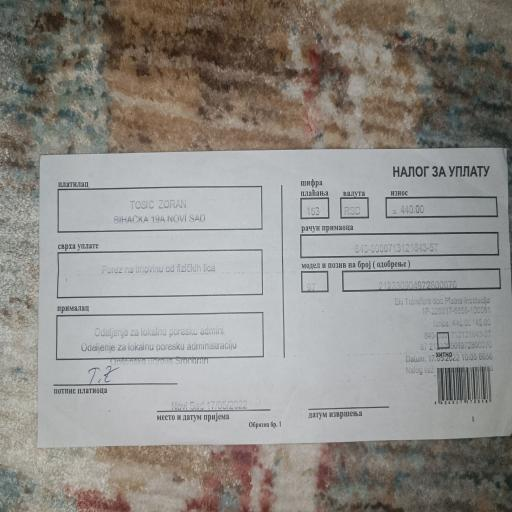svrha_uplate: (56, 239, 268, 299)
uplatnica: (296, 156, 501, 294)
